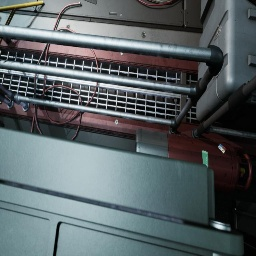NitrogenTank ,: (135, 128, 252, 194)
